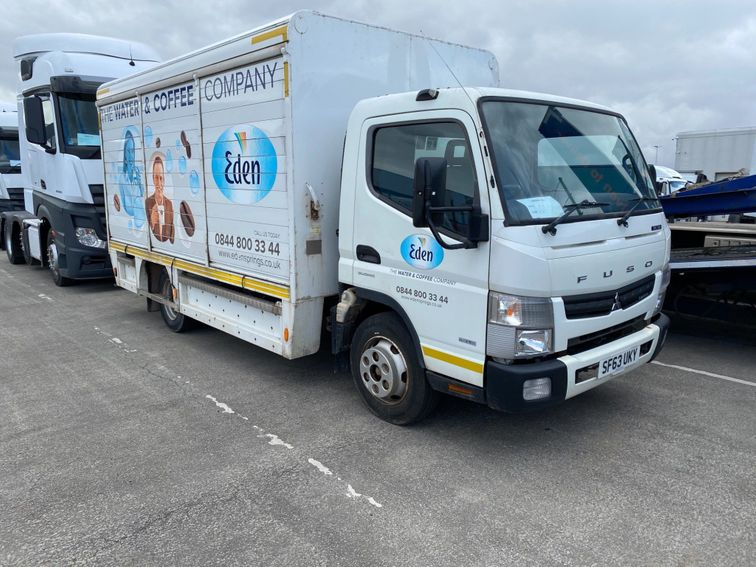Semi: (95, 10, 669, 427)
